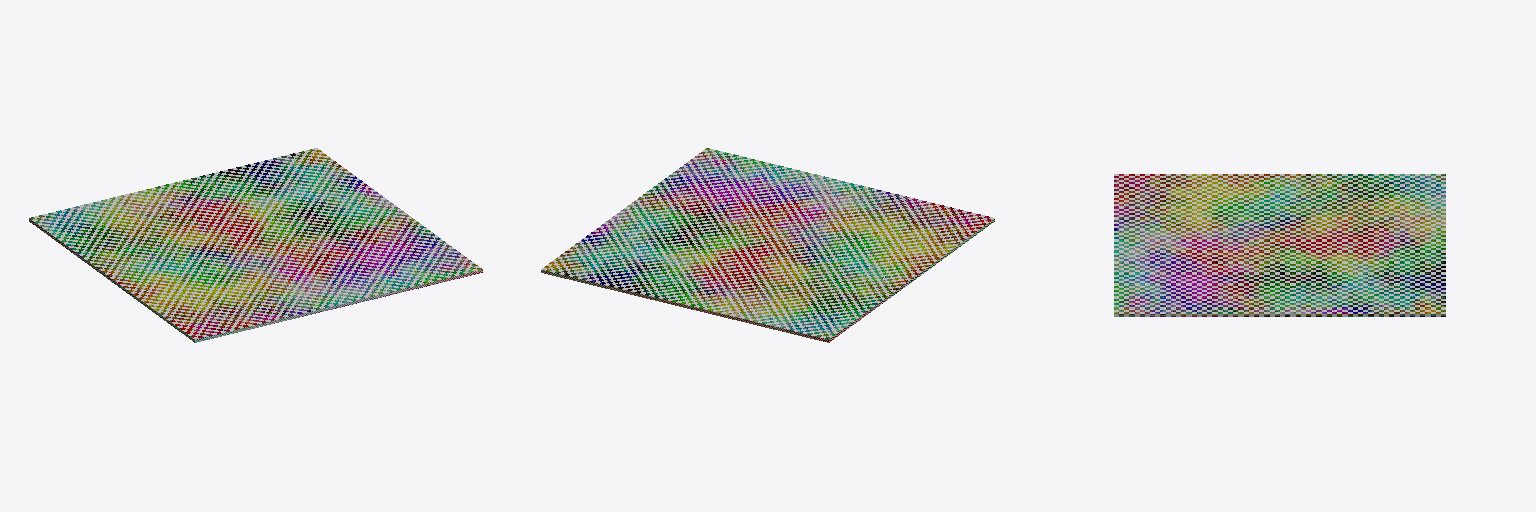
The picture shows the model from 3 angles: view 1: azimuth 30°, elevation 25°; view 2: azimuth 150°, elevation 25°; view 3: azimuth 270°, elevation 25°; orthographic projection.
Parts seen in each view (by area): view 1: Cube; view 2: Cube; view 3: Cube.
Boxes of the visible parts, x1,y1,x2,y2 form: Cube: [29, 148, 482, 342]; Cube: [541, 148, 994, 342]; Cube: [1114, 174, 1445, 316].
Bounding box in the file's own units: 9.11 × 0.7388 × 9.11.
Materials: 4 (4 with a texture image).